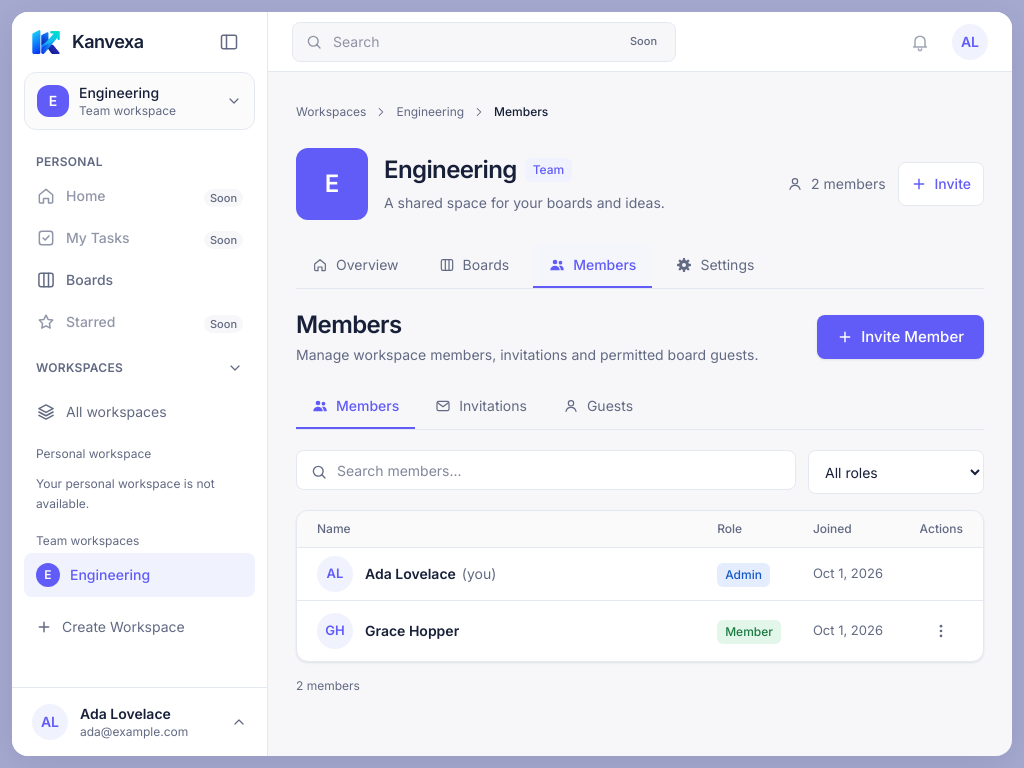
Test: Workspace Members page › still hides the Workspace after actual access loss during role
Click the button named "Actions for Grace Hopper": (941, 631) top-left (919, 609), bottom-right (963, 653)
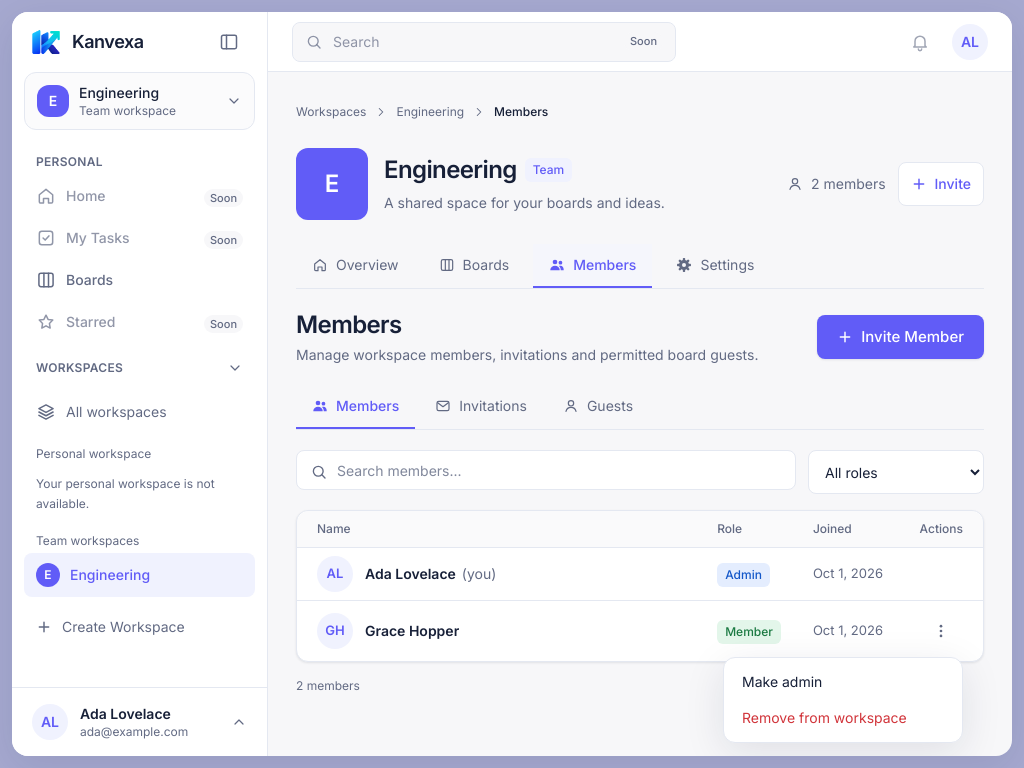
Click the button "Make admin": (843, 682) top-left (730, 664), bottom-right (956, 700)
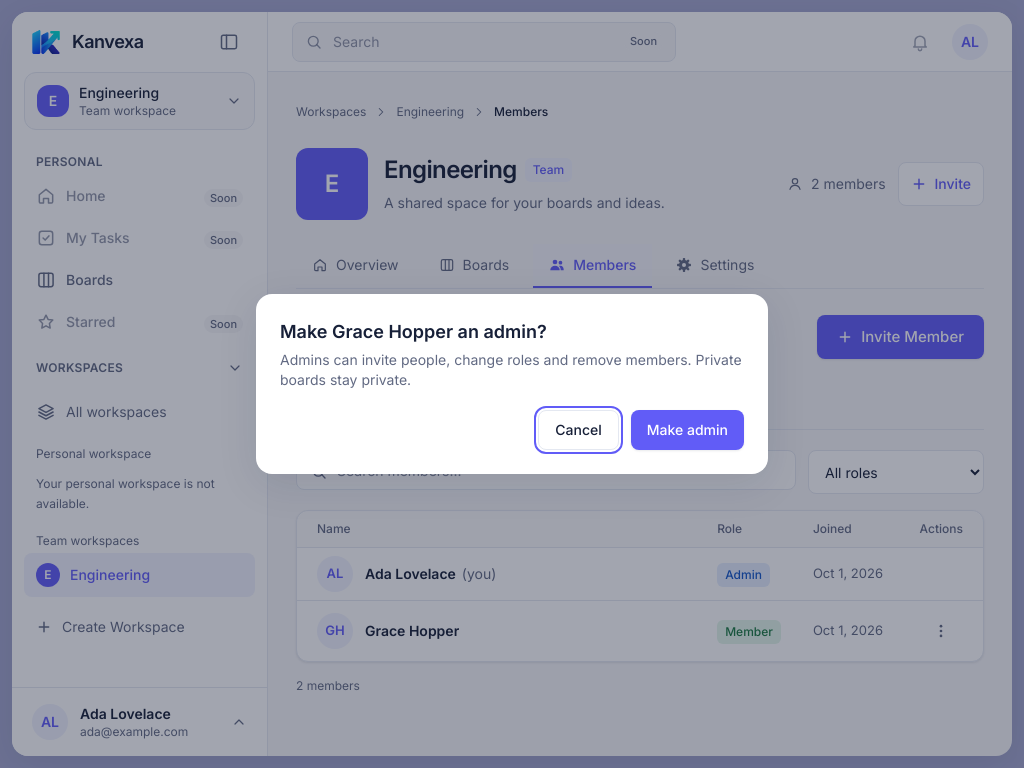
Click the button "Make admin": (687, 430) top-left (631, 410), bottom-right (744, 450)
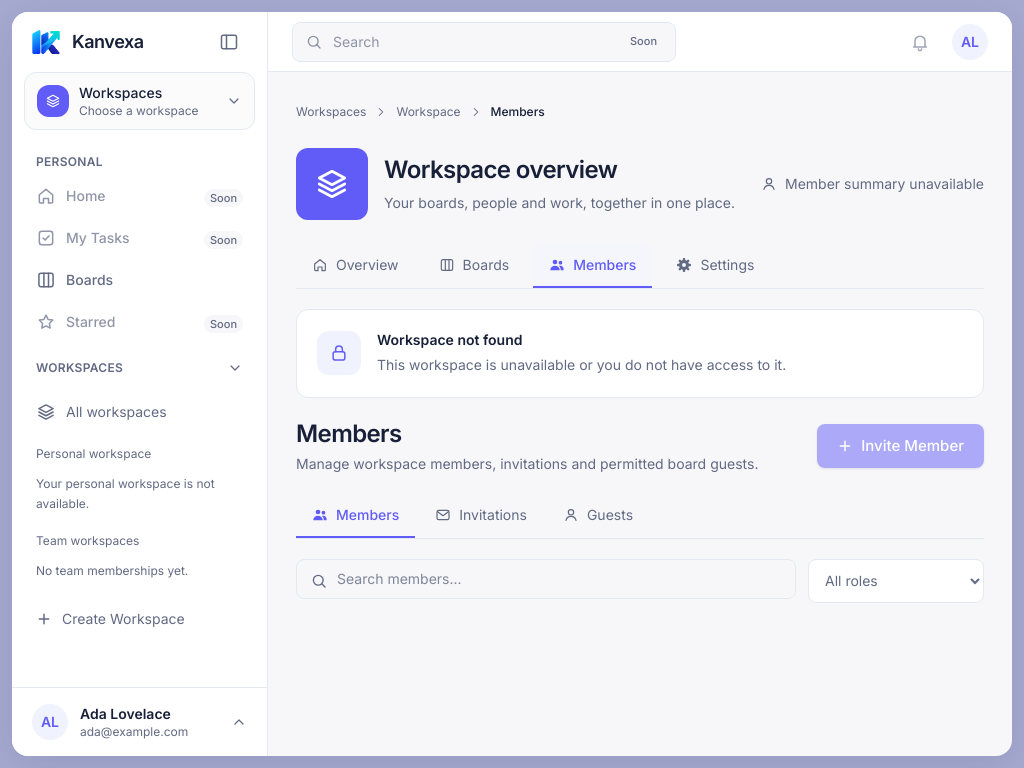
Now the heading "Workspace not found" is shown, box top-left (377, 331), bottom-right (522, 348)
Now the table is gone
